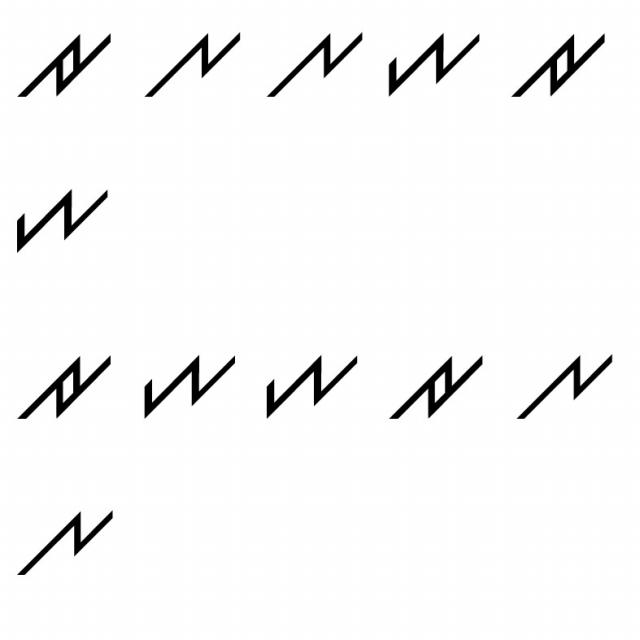ja: (10, 21, 117, 103)
la: (515, 341, 620, 427), (266, 18, 366, 106), (15, 504, 118, 585), (147, 22, 244, 107)
ra: (7, 343, 119, 425), (390, 343, 487, 432), (508, 26, 608, 105)
ya: (9, 176, 114, 267), (135, 334, 243, 419), (259, 336, 367, 420), (379, 22, 485, 97)
